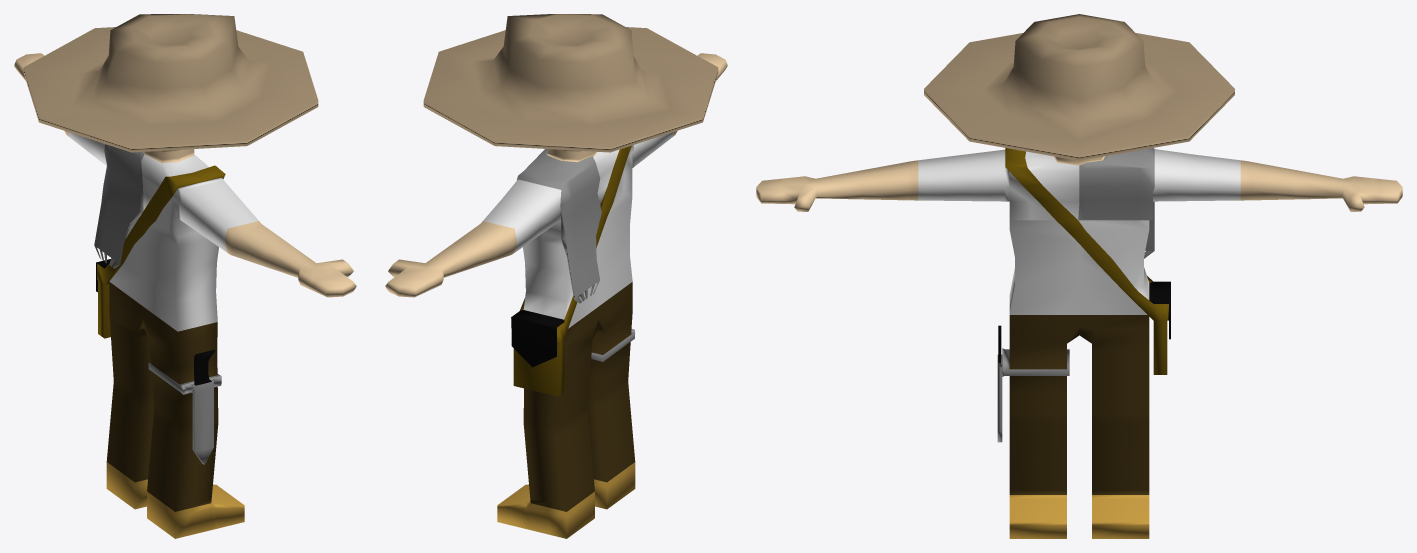
Rendered from Paisa pose T.fbx.
The picture shows the model from 3 angles, left to right: view 1: azimuth 30°, elevation 25°; view 2: azimuth 150°, elevation 25°; view 3: azimuth 270°, elevation 25°; orthographic projection.
Visible parts, largest first — view 1: pCube2; view 2: pCube2; view 3: pCube2.
Boxes of the visible parts, x1,y1,x2,y2 form: pCube2: [14, 14, 356, 538]; pCube2: [385, 14, 727, 538]; pCube2: [756, 14, 1402, 538].
Size of the model in its own units: 5.95 by 10.28 by 12.36.
